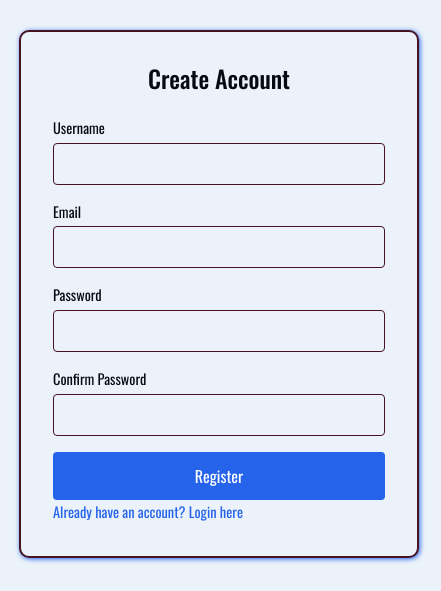
Scenario: RegisterForm › shows validation error for invalid email
Type "testuser" into the field labelled "Username" at {"x": 219, "y": 164}, box [53, 143, 385, 185]
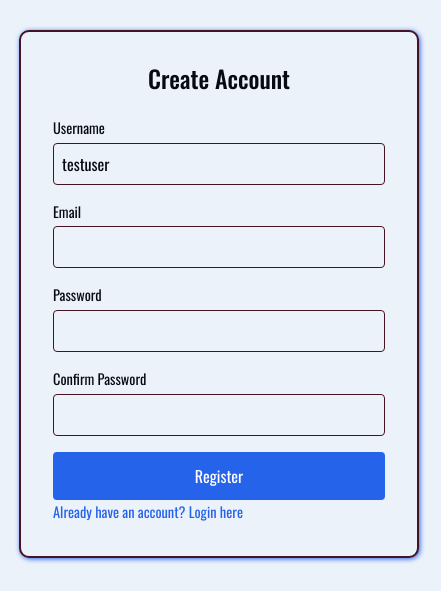
Type "invalid-email" into the field labelled "Email" at {"x": 219, "y": 247}, box [53, 226, 385, 268]
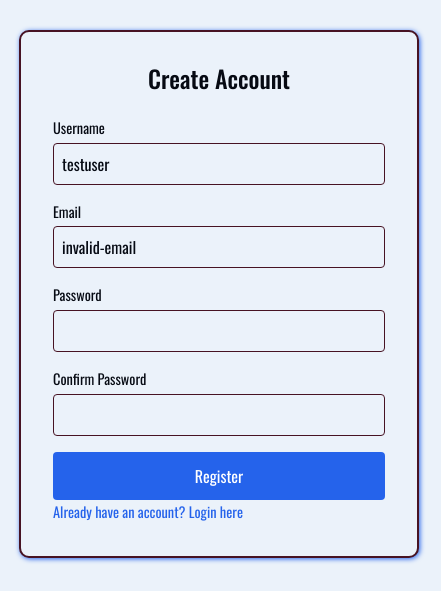
Type "password123" into the password field labelled "Password" at {"x": 219, "y": 331}, box [53, 310, 385, 352]
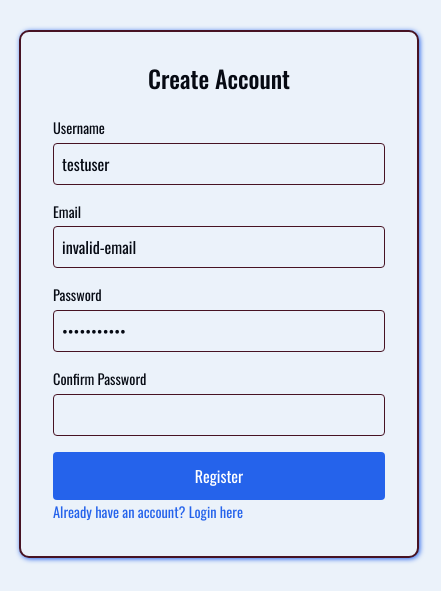
Type "password123" into the password field labelled "Confirm Password" at {"x": 219, "y": 415}, box [53, 394, 385, 436]
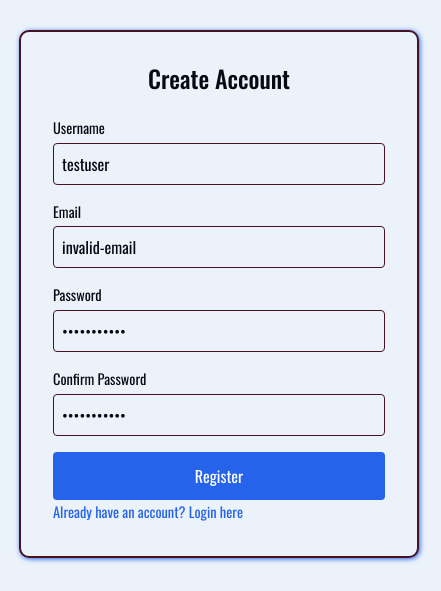
Submit the form from the button "Register", box [53, 452, 385, 500]
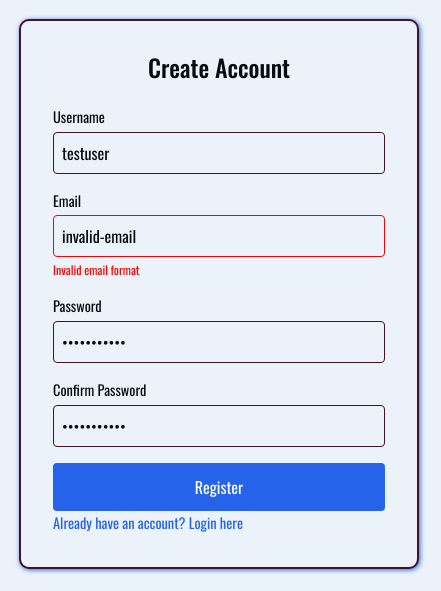
Expected: the text "Invalid email format" is shown, [53, 261, 140, 278]
